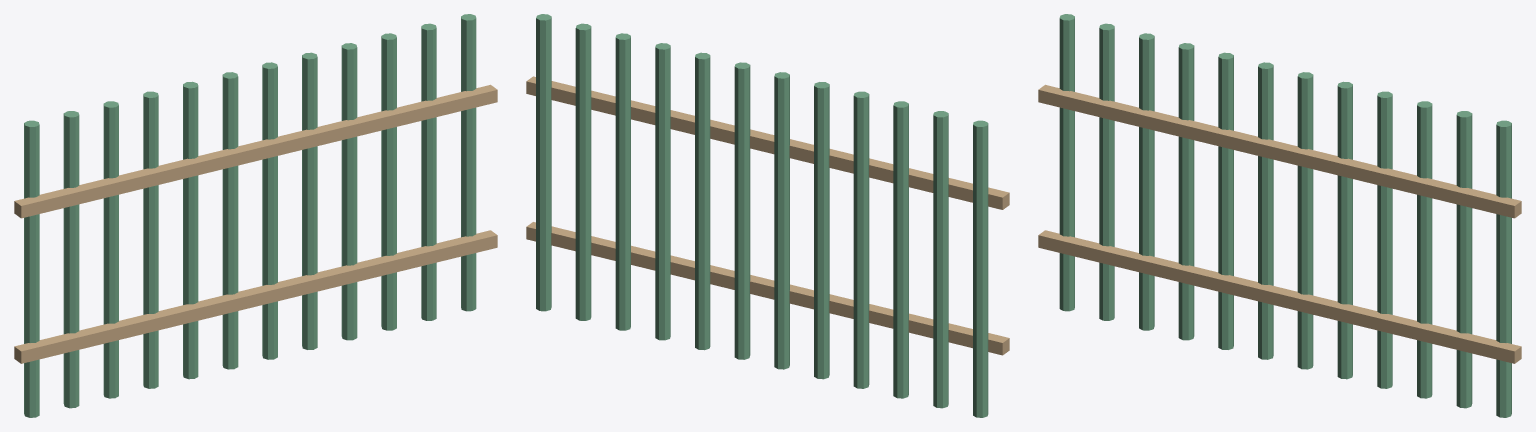
The model's file is bamboo-fence.glb.
3 renders of one model, left to right at view 1: azimuth 30°, elevation 25°; view 2: azimuth 150°, elevation 25°; view 3: azimuth 330°, elevation 25°, orthographic.
Visible parts, largest first — view 1: bamboo-fence; view 2: bamboo-fence; view 3: bamboo-fence.
Part boxes in pixels (x1,y1,x2,y2): bamboo-fence: (14, 14, 497, 417); bamboo-fence: (526, 14, 1009, 417); bamboo-fence: (1038, 14, 1521, 417).
Bounding box in the file's own units: 2.4 × 1.4 × 0.1151.
